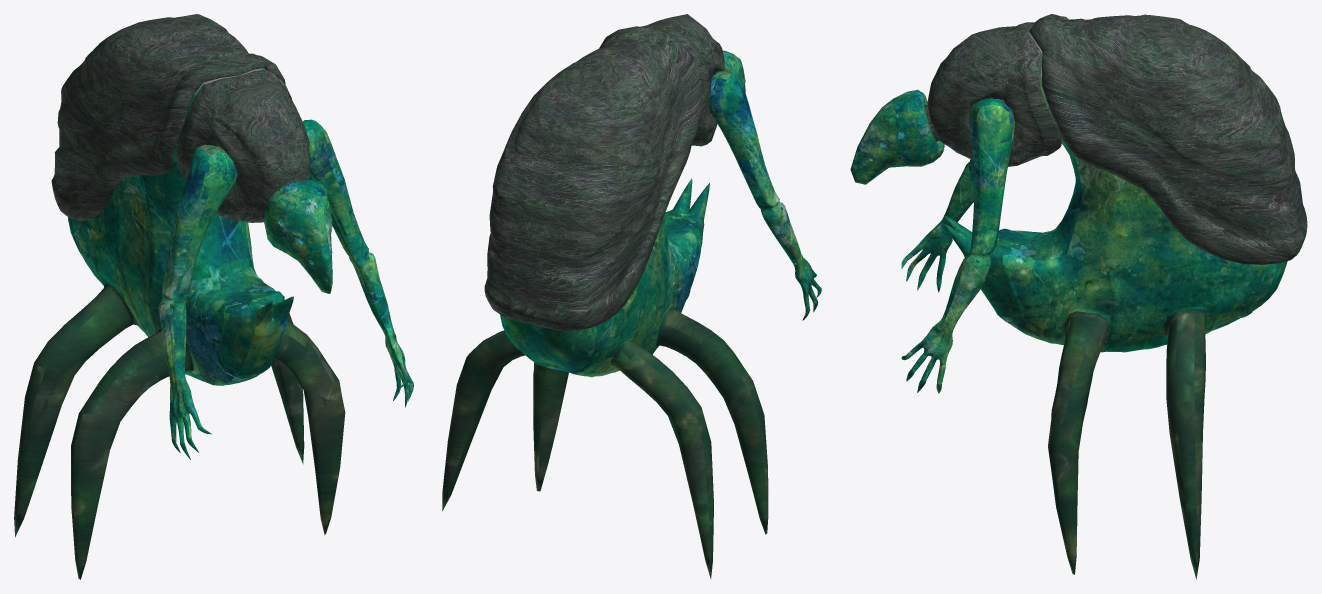
The model's file is Andar.0004.obj.
3 views of the same model, side by side, from view 1: azimuth 30°, elevation 25°; view 2: azimuth 150°, elevation 25°; view 3: azimuth 270°, elevation 25° (orthographic). The views are drawn at different scales.
Visible parts, largest first — view 1: pCube14; view 2: pCube14; view 3: pCube14.
Boxes of the visible parts, bbox=[...] form: pCube14: bbox=[14, 14, 413, 579]; pCube14: bbox=[442, 14, 821, 578]; pCube14: bbox=[850, 14, 1307, 579].
Bounding box in the file's own units: 2.33 × 3.94 × 3.26.
5 materials, 4 textured.
